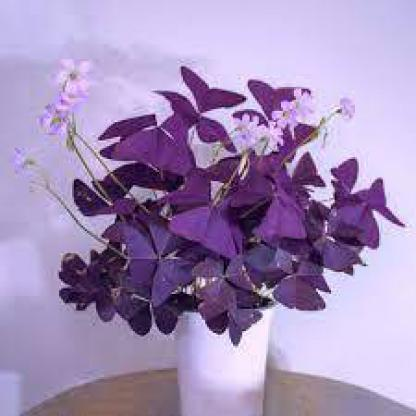Kupu-Kupu: (112, 219, 265, 323), (188, 170, 308, 255), (94, 108, 208, 175), (160, 60, 241, 149), (314, 171, 401, 245)
